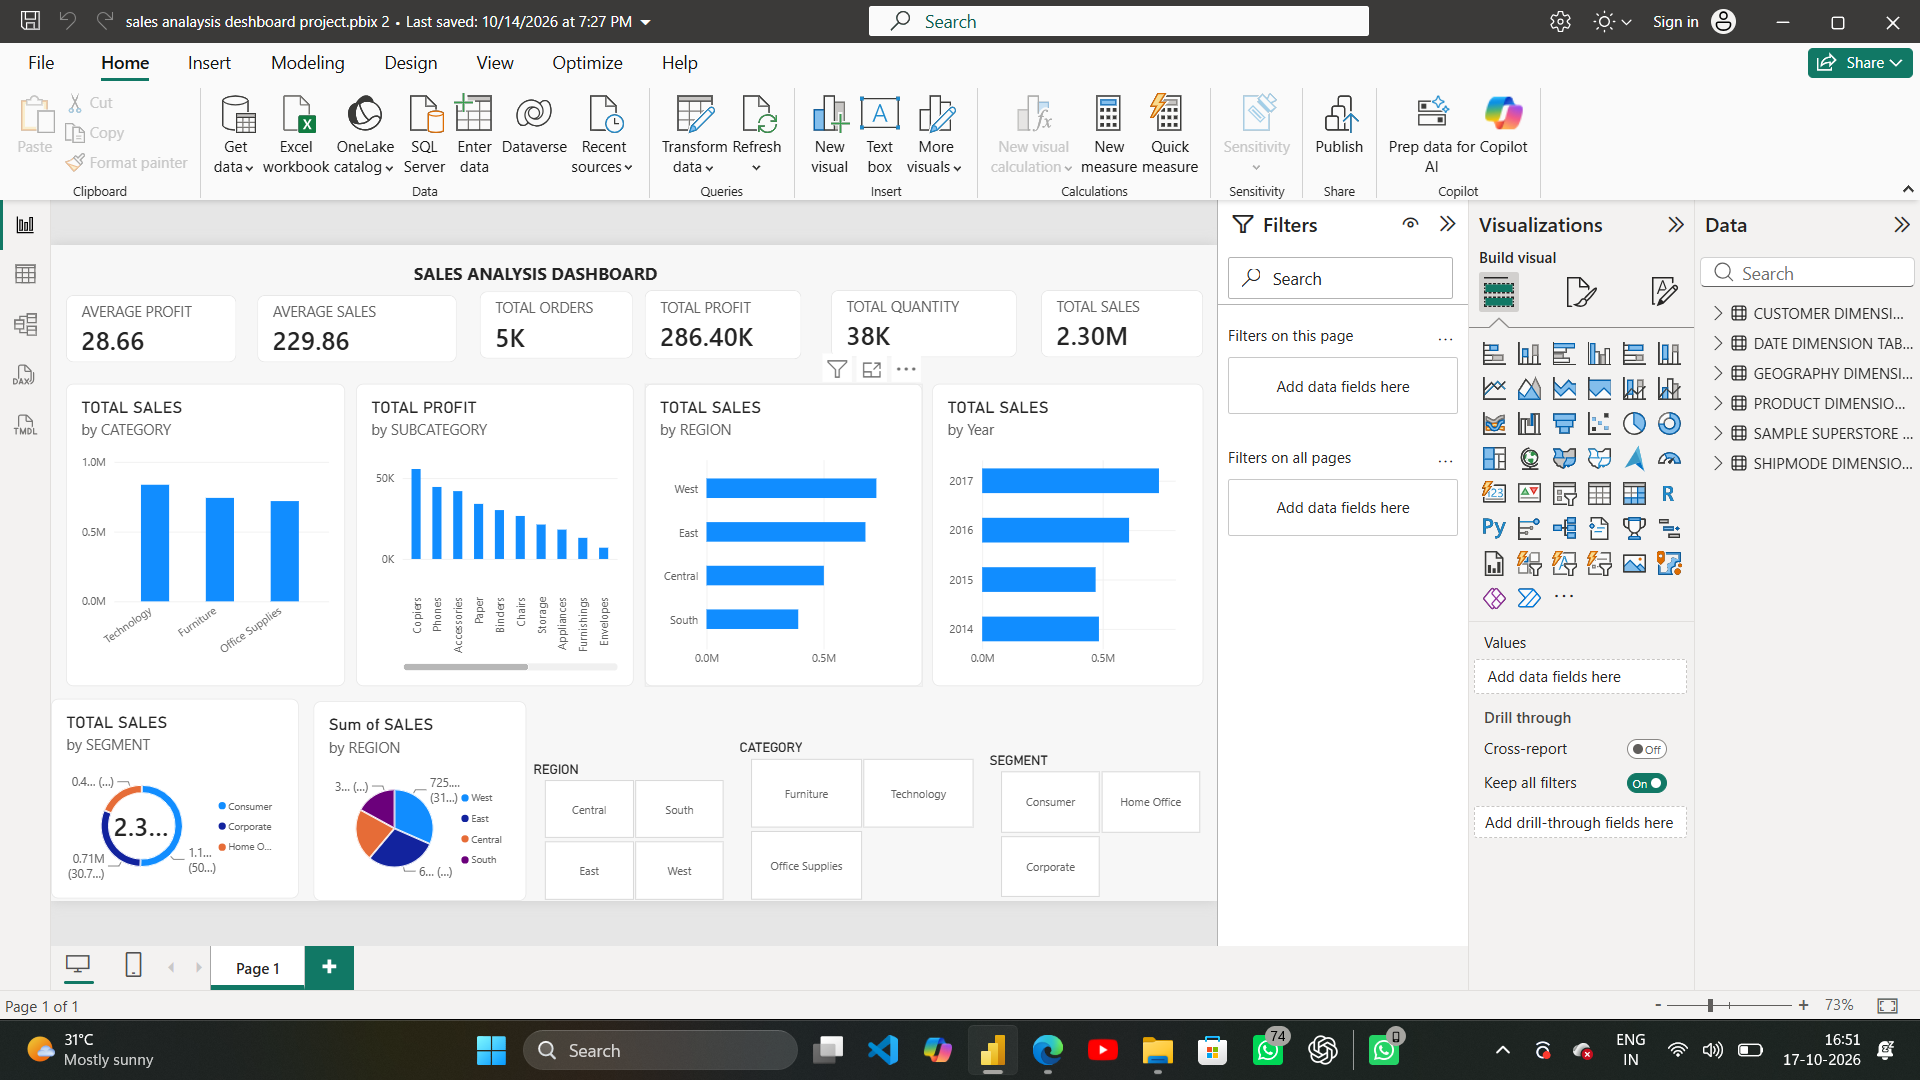

Layout of this report page (visuals, bound fields, positions):
{"tool":"powerbi","page":{"name":"Page 1","canvas":[1280,720],"ordinal":0},"visuals":[{"type":"cardVisual","fields":{"Data":["SAMPLE SUPERSTORE 1SALES (FACT TABLE).AVERAGE PROFIT"]},"box":[16.9,54.2,188,74.7],"z":0},{"type":"cardVisual","fields":{"Data":["SAMPLE SUPERSTORE 1SALES (FACT TABLE).AVERAGE SALES"]},"box":[226.4,54.9,219.3,74.7],"z":1000},{"type":"cardVisual","fields":{"Data":["SAMPLE SUPERSTORE 1SALES (FACT TABLE).TOTAL ORDERS"]},"box":[470.7,50.8,168.8,74.1],"z":2000},{"type":"cardVisual","fields":{"Data":["SAMPLE SUPERSTORE 1SALES (FACT TABLE).TOTAL PROFIT"]},"box":[651.8,49.4,172.9,76.8],"z":3000},{"type":"cardVisual","fields":{"Data":["SAMPLE SUPERSTORE 1SALES (FACT TABLE).TOTAL QUANTITY"]},"box":[856.3,49.4,204.5,74.1],"z":4000},{"type":"cardVisual","fields":{"Data":["SAMPLE SUPERSTORE 1SALES (FACT TABLE).TOTAL SALES"]},"box":[1086.8,49.4,178.4,74.1],"z":5000},{"type":"clusteredColumnChart","fields":{"Category":["SAMPLE SUPERSTORE 1SALES (FACT TABLE).CATEGORY"],"Y":["SAMPLE SUPERSTORE 1SALES (FACT TABLE).TOTAL SALES"]},"box":[16.5,152.3,306,332.1],"z":6000},{"type":"clusteredBarChart","fields":{"Category":["SAMPLE SUPERSTORE 1SALES (FACT TABLE).REGION"],"Y":["SAMPLE SUPERSTORE 1SALES (FACT TABLE).TOTAL SALES"]},"box":[651.8,152.3,304.6,332.1],"z":7000},{"type":"clusteredBarChart","fields":{"Category":["DATE DIMENSION TABLE.ORDER DATE.Variation.Date Hierarchy.Year","DATE DIMENSION TABLE.ORDER DATE.Variation.Date Hierarchy.Quarter","DATE DIMENSION TABLE.ORDER DATE.Variation.Date Hierarchy.Month","DATE DIMENSION TABLE.ORDER DATE.Variation.Date Hierarchy.Day"],"Y":["SAMPLE SUPERSTORE 1SALES (FACT TABLE).TOTAL SALES"]},"box":[967.4,152.3,297.8,332.1],"z":8000},{"type":"donutChart","fields":{"Category":["SAMPLE SUPERSTORE 1SALES (FACT TABLE).SEGMENT"],"Y":["SAMPLE SUPERSTORE 1SALES (FACT TABLE).TOTAL SALES"]},"box":[0,498.1,271.7,219.6],"z":9000},{"type":"textbox","box":[183.1,0,698.8,51.8],"z":10000},{"type":"clusteredColumnChart","fields":{"Y":["SAMPLE SUPERSTORE 1SALES (FACT TABLE).TOTAL PROFIT"],"Category":["SAMPLE SUPERSTORE 1SALES (FACT TABLE).SUBCATEGORY"]},"box":[334.8,152.3,304.6,332.1],"z":11000},{"type":"slicer","fields":{"Values":["SAMPLE SUPERSTORE 1SALES (FACT TABLE).REGION"]},"box":[521.4,566.7,236,153.7],"z":12000},{"type":"slicer","fields":{"Values":["SAMPLE SUPERSTORE 1SALES (FACT TABLE).CATEGORY"]},"box":[747.9,543.4,284,177],"z":13000},{"type":"slicer","fields":{"Values":["SAMPLE SUPERSTORE 1SALES (FACT TABLE).SEGMENT"]},"box":[1022.3,557.1,258,160.5],"z":14000},{"type":"pieChart","fields":{"Category":["SAMPLE SUPERSTORE 1SALES (FACT TABLE).REGION"],"Y":["Sum(SAMPLE SUPERSTORE 1SALES (FACT TABLE).SALES)"]},"box":[288.2,500.9,233.3,219.6],"z":15000}]}

Visuals, with their boxes on the page's 1280x720 design canvas (x1, y1, x2, y2). These are canvas units, not pixel positions in the 1920x1080 screenshot, which may show the page scaled, cropped or inside an application window:
cardVisual - SAMPLE SUPERSTORE 1SALES (FACT TABLE).AVERAGE PROFIT: <bbox>17, 54, 205, 129</bbox>
cardVisual - SAMPLE SUPERSTORE 1SALES (FACT TABLE).AVERAGE SALES: <bbox>226, 55, 446, 130</bbox>
cardVisual - SAMPLE SUPERSTORE 1SALES (FACT TABLE).TOTAL ORDERS: <bbox>471, 51, 640, 125</bbox>
cardVisual - SAMPLE SUPERSTORE 1SALES (FACT TABLE).TOTAL PROFIT: <bbox>652, 49, 825, 126</bbox>
cardVisual - SAMPLE SUPERSTORE 1SALES (FACT TABLE).TOTAL QUANTITY: <bbox>856, 49, 1061, 124</bbox>
cardVisual - SAMPLE SUPERSTORE 1SALES (FACT TABLE).TOTAL SALES: <bbox>1087, 49, 1265, 124</bbox>
clusteredColumnChart - SAMPLE SUPERSTORE 1SALES (FACT TABLE).CATEGORY x SAMPLE SUPERSTORE 1SALES (FACT TABLE).TOTAL SALES: <bbox>16, 152, 322, 484</bbox>
clusteredBarChart - SAMPLE SUPERSTORE 1SALES (FACT TABLE).REGION x SAMPLE SUPERSTORE 1SALES (FACT TABLE).TOTAL SALES: <bbox>652, 152, 956, 484</bbox>
clusteredBarChart - DATE DIMENSION TABLE.ORDER DATE.Variation.Date Hierarchy.Year x DATE DIMENSION TABLE.ORDER DATE.Variation.Date Hierarchy.Quarter: <bbox>967, 152, 1265, 484</bbox>
donutChart - SAMPLE SUPERSTORE 1SALES (FACT TABLE).SEGMENT x SAMPLE SUPERSTORE 1SALES (FACT TABLE).TOTAL SALES: <bbox>0, 498, 272, 718</bbox>
textbox: <bbox>183, 0, 882, 52</bbox>
clusteredColumnChart - SAMPLE SUPERSTORE 1SALES (FACT TABLE).TOTAL PROFIT x SAMPLE SUPERSTORE 1SALES (FACT TABLE).SUBCATEGORY: <bbox>335, 152, 639, 484</bbox>
slicer - SAMPLE SUPERSTORE 1SALES (FACT TABLE).REGION: <bbox>521, 567, 757, 720</bbox>
slicer - SAMPLE SUPERSTORE 1SALES (FACT TABLE).CATEGORY: <bbox>748, 543, 1032, 720</bbox>
slicer - SAMPLE SUPERSTORE 1SALES (FACT TABLE).SEGMENT: <bbox>1022, 557, 1280, 718</bbox>
pieChart - SAMPLE SUPERSTORE 1SALES (FACT TABLE).REGION x Sum(SAMPLE SUPERSTORE 1SALES (FACT TABLE).SALES): <bbox>288, 501, 522, 720</bbox>
